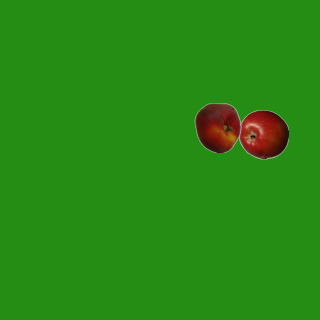Apple Braeburn: (238, 109, 288, 159)
Nectarine Flat: (192, 102, 242, 152)
